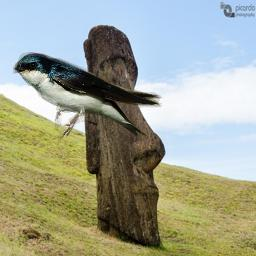Swallow: (13, 52, 166, 143)
